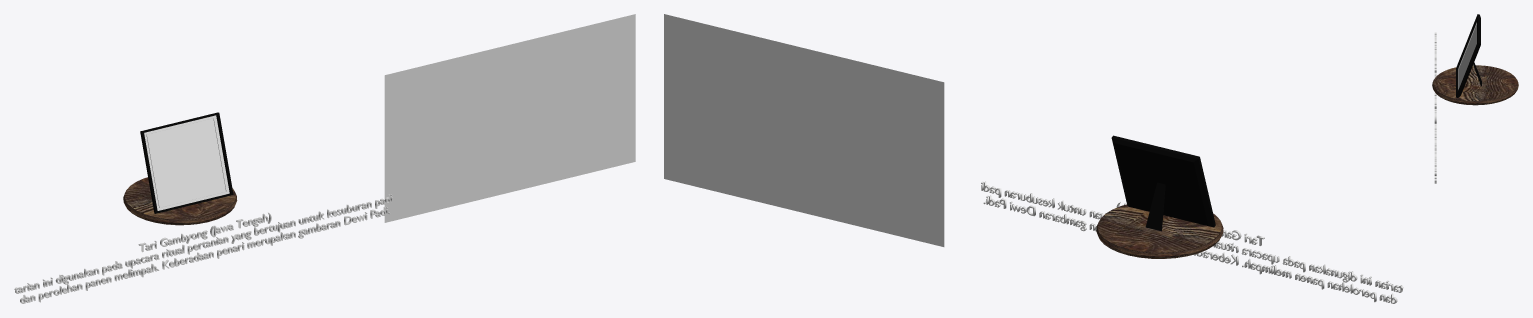
File: 15. Tari Gambyong (Jawa Barat).fbx
The picture shows the model from 3 angles, left to right: view 1: azimuth 30°, elevation 25°; view 2: azimuth 150°, elevation 25°; view 3: azimuth 270°, elevation 25°; orthographic projection. The views are drawn at different scales.
Visible parts, largest first — view 1: Plane, Cube.016, Text; view 2: Plane, Cube.016, Text; view 3: Cube.016, Text.
Boxes of the visible parts, left/top/right/bottom form: Plane: left=384, top=14, right=635, bottom=222; Cube.016: left=123, top=112, right=237, bottom=225; Text: left=14, top=194, right=392, bottom=303; Plane: left=664, top=14, right=944, bottom=246; Cube.016: left=1096, top=135, right=1223, bottom=258; Text: left=981, top=181, right=1403, bottom=303; Cube.016: left=1432, top=14, right=1518, bottom=105; Text: left=1434, top=32, right=1436, bottom=183.
Bounding box in the file's own units: 8174 × 1800 × 1260.
Materials: 6 (3 with a texture image).
